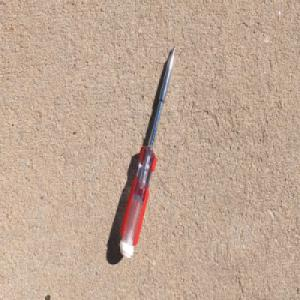Screwdriver: (118, 44, 176, 259)
